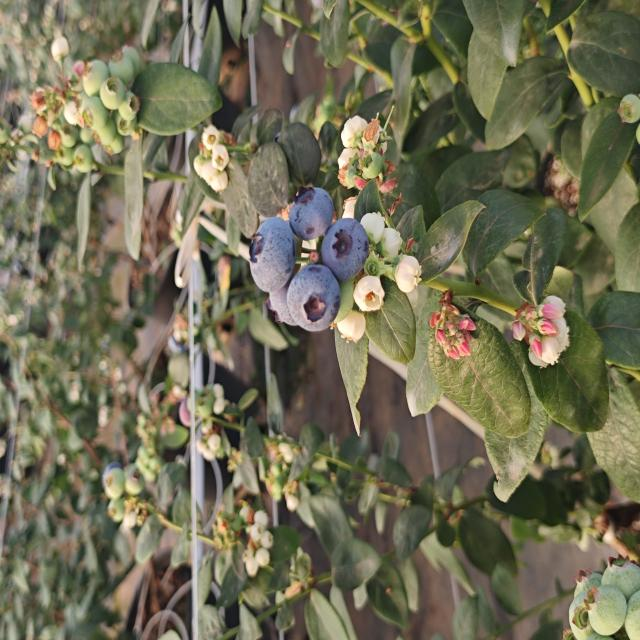ripe: (285, 262, 342, 335), (246, 215, 296, 296), (319, 216, 371, 284), (286, 184, 336, 244)
